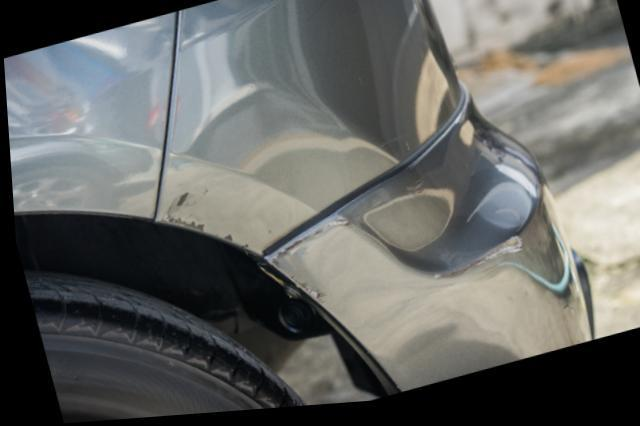scratch: (260, 217, 351, 308), (425, 241, 529, 290), (158, 196, 236, 246)
